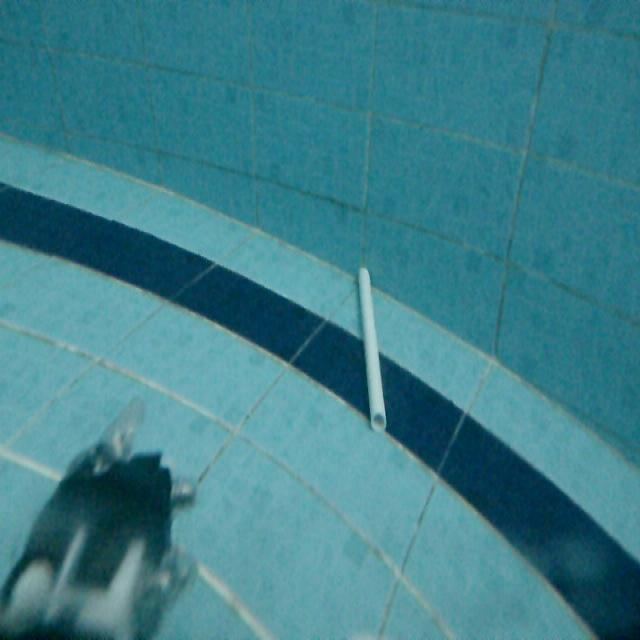Cube: (354, 260, 390, 433)
